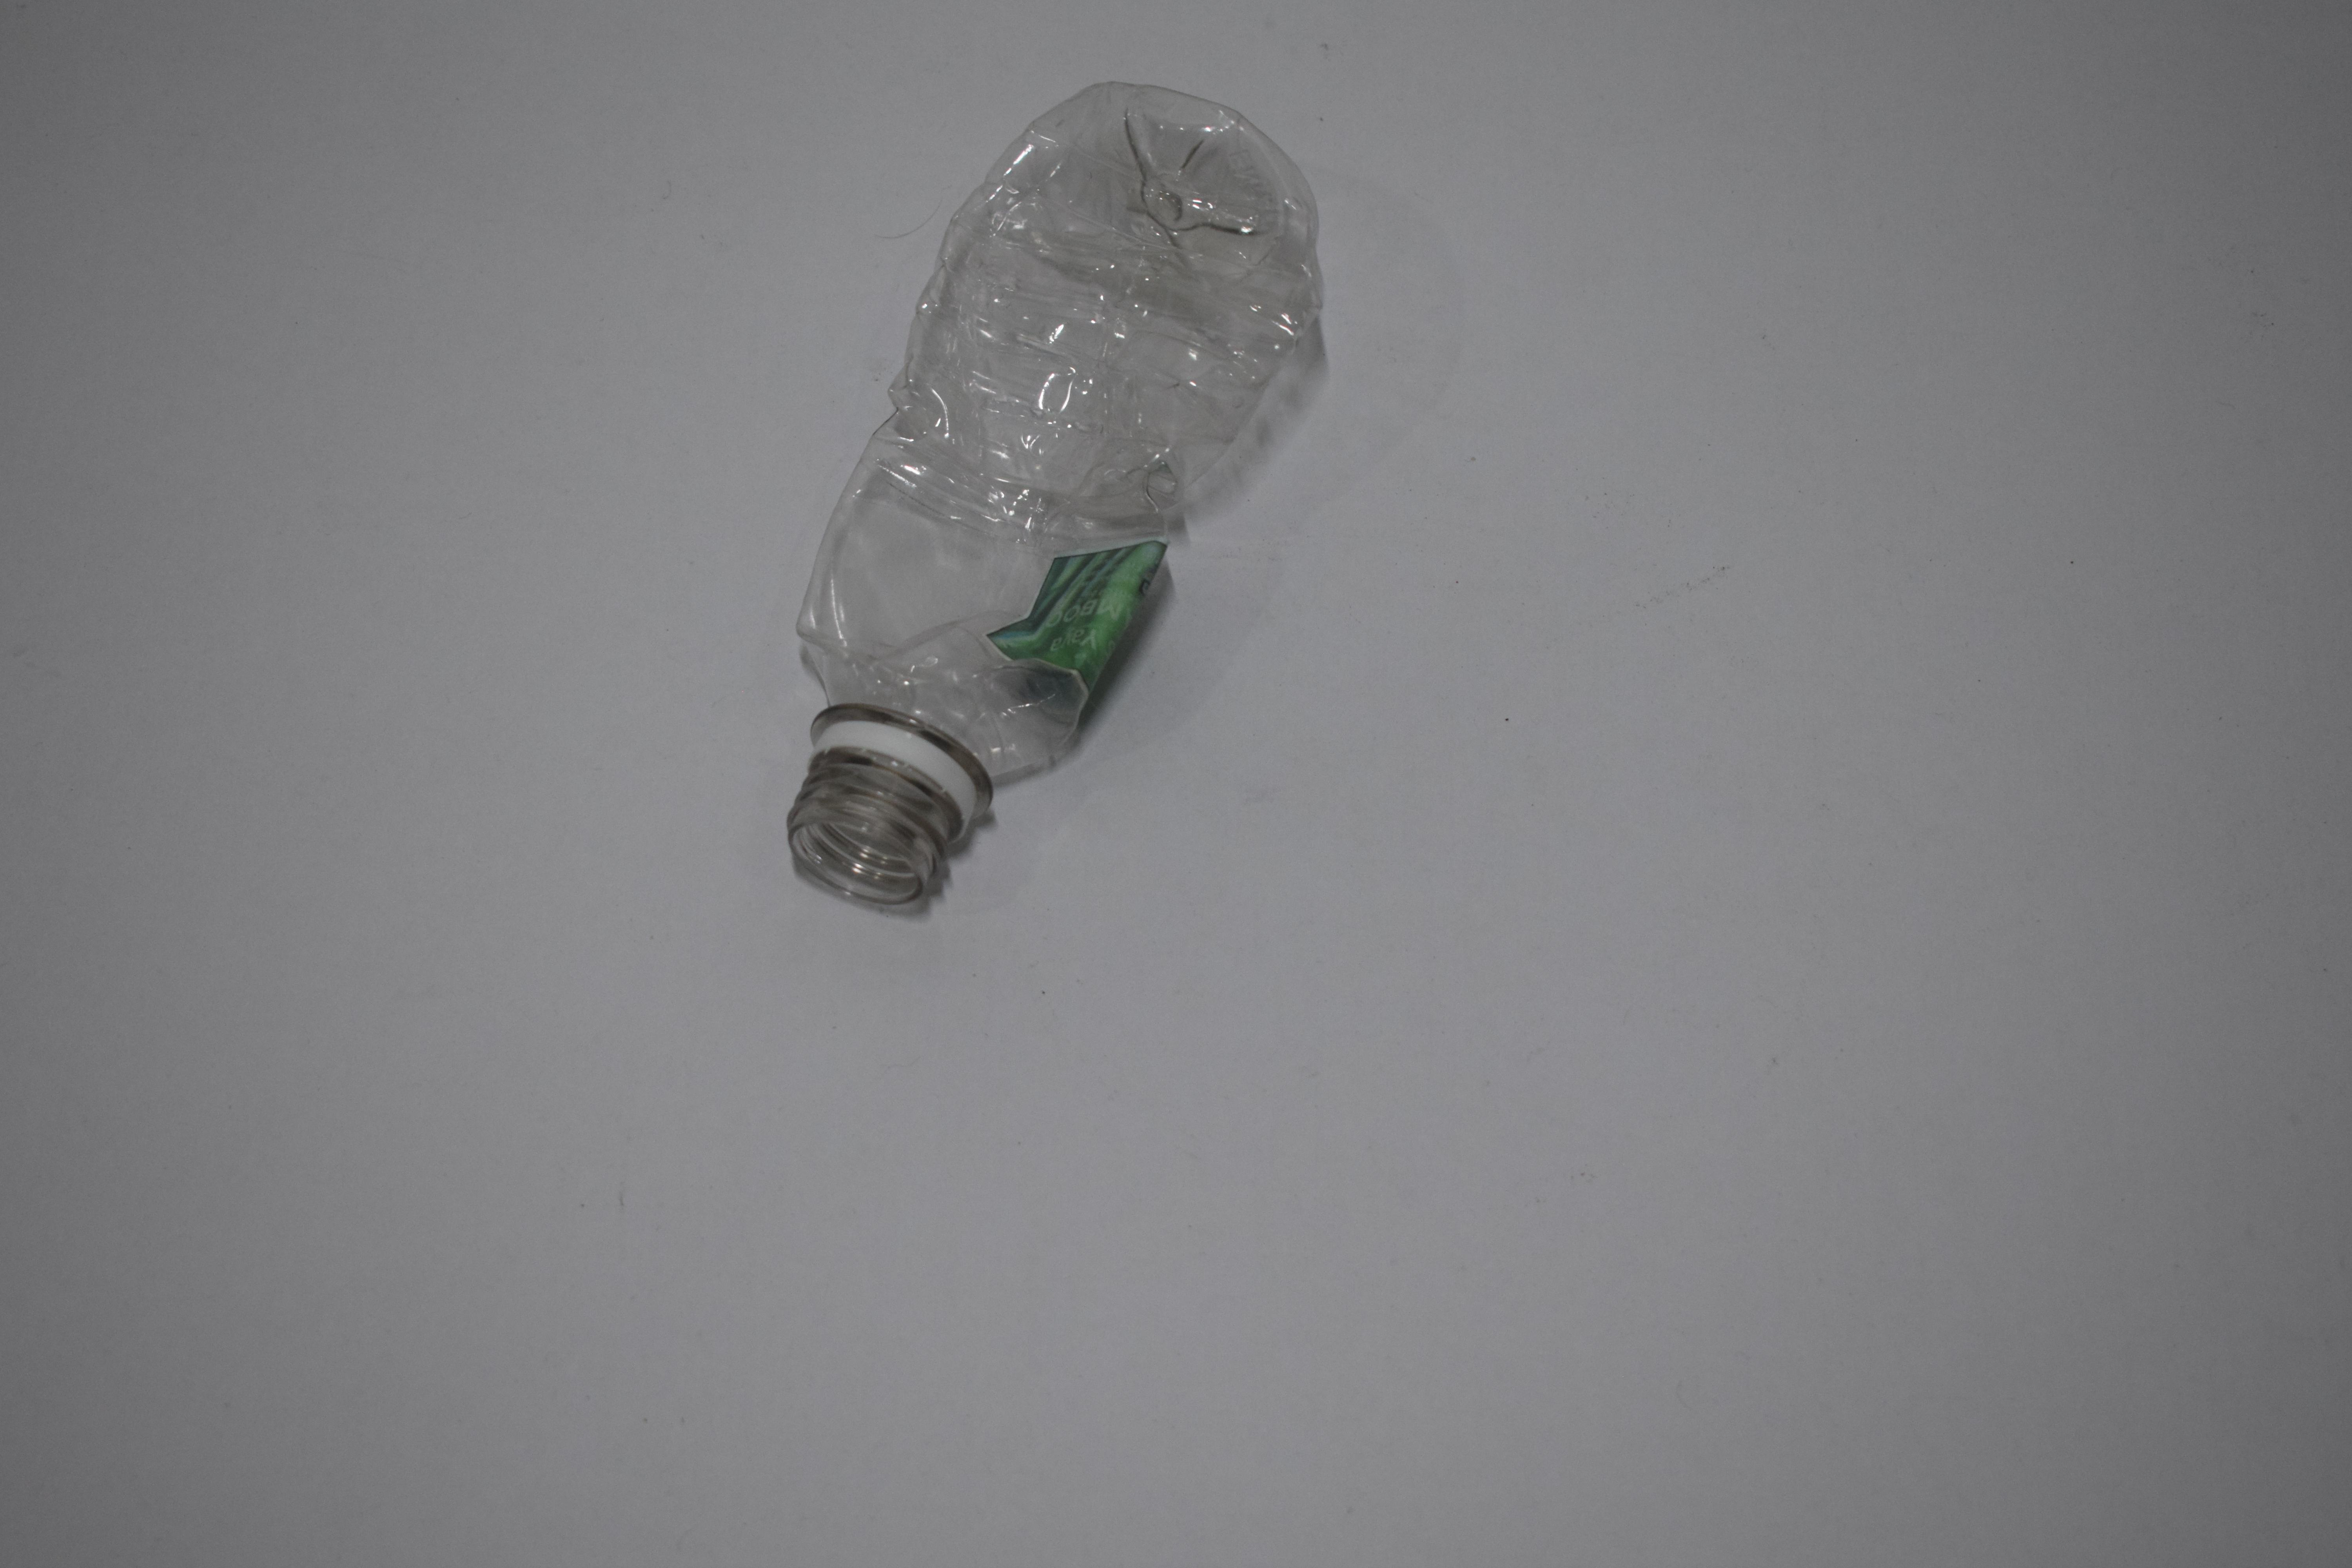bottle: (786, 458, 1326, 520)
